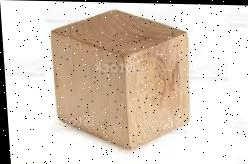cube: (49, 8, 195, 151)
